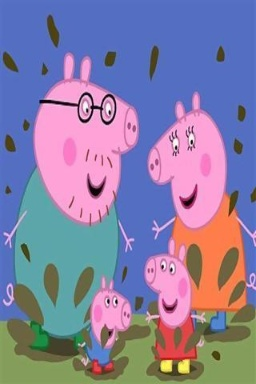Peppa: (142, 239, 204, 373)
